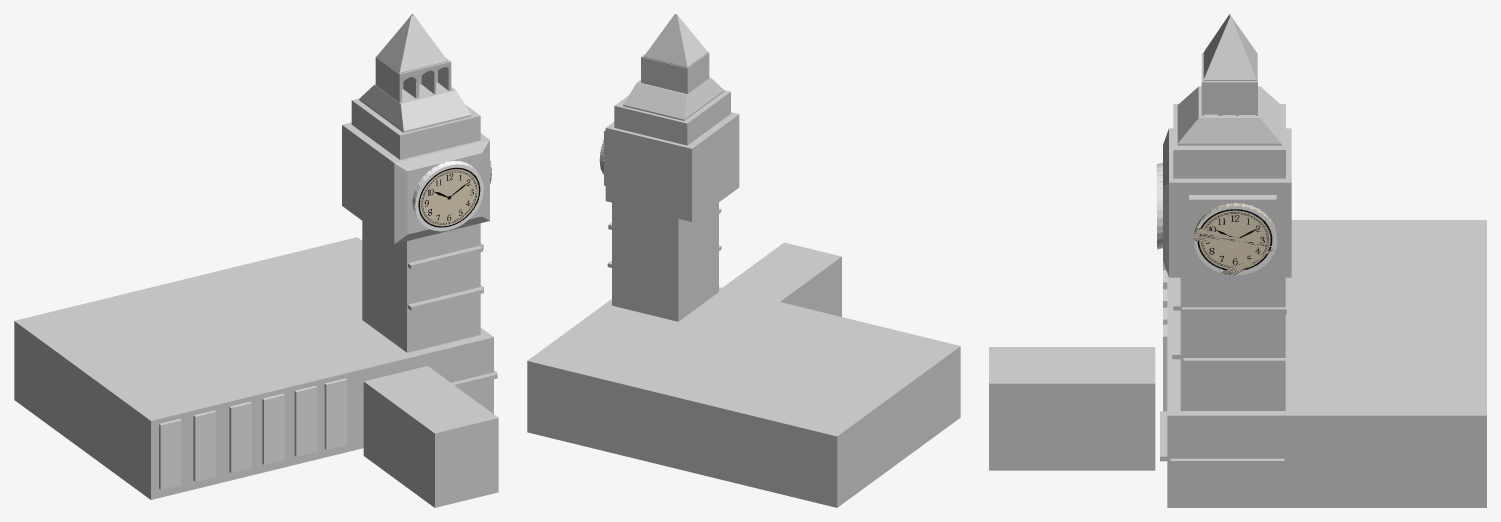
File: Big Ben new.fbx
3 views of the same model, side by side, from view 1: azimuth 30°, elevation 25°; view 2: azimuth 150°, elevation 25°; view 3: azimuth 270°, elevation 25° (orthographic). The views are drawn at different scales.
Parts seen in each view (by area): view 1: Cube.001, Cube.008, Cube.009, Cube.010, Cube.016, Cube.024, Cube.025, Cube.015, Cube.026, Cube.004, Cube.003, Cube.006 (+5 smaller); view 2: Cube.001, Cube.009, Cube.010, Cube.008, Cube.024, Cube.025, Cube.026, Cube.015; view 3: Cube.001, Cube.008, Cube.009, Cube.010, Cube.017, Cube.025, Cube.024, Cube.015, Cube.026, Cube.023, Cube.021, Cube.022 (+1 smaller).
Boxes of the visible parts, <box> form: Cube.001: <box>14,237,493,499</box>; Cube.008: <box>363,366,498,507</box>; Cube.009: <box>362,221,480,352</box>; Cube.010: <box>342,122,489,244</box>; Cube.016: <box>412,160,483,231</box>; Cube.024: <box>351,98,480,159</box>; Cube.025: <box>359,82,471,132</box>; Cube.015: <box>376,14,447,73</box>; Cube.026: <box>375,56,451,102</box>; Cube.004: <box>229,401,252,472</box>; Cube.003: <box>193,410,216,481</box>; Cube.006: <box>294,386,317,456</box>; Cube.001: <box>527,287,960,507</box>; Cube.009: <box>612,202,718,321</box>; Cube.010: <box>604,112,739,221</box>; Cube.008: <box>722,242,841,316</box>; Cube.024: <box>614,90,730,145</box>; Cube.025: <box>623,77,724,120</box>; Cube.026: <box>641,52,709,93</box>; Cube.015: <box>644,14,707,67</box>; Cube.001: <box>1167,220,1486,507</box>; Cube.008: <box>989,347,1155,470</box>; Cube.009: <box>1180,277,1285,410</box>; Cube.010: <box>1163,128,1291,277</box>; Cube.017: <box>1193,203,1277,275</box>; Cube.025: <box>1177,86,1281,145</box>; Cube.024: <box>1173,104,1285,178</box>; Cube.015: <box>1203,14,1256,80</box>; Cube.026: <box>1201,53,1257,115</box>; Cube.023: <box>1170,458,1284,468</box>; Cube.021: <box>1182,307,1286,314</box>; Cube.022: <box>1183,358,1285,364</box>.
Size of the model in its own units: 518 by 560 by 543.
Materials: 3 (1 with a texture image).
